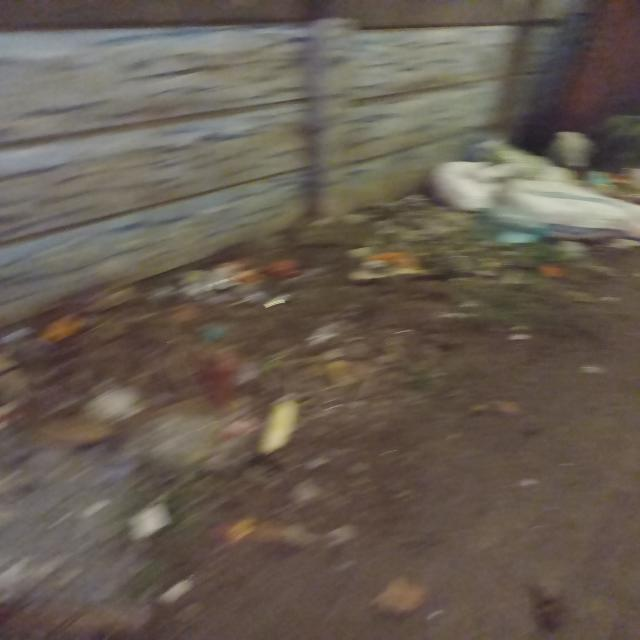garbage: (47, 261, 331, 568), (394, 126, 640, 295)
